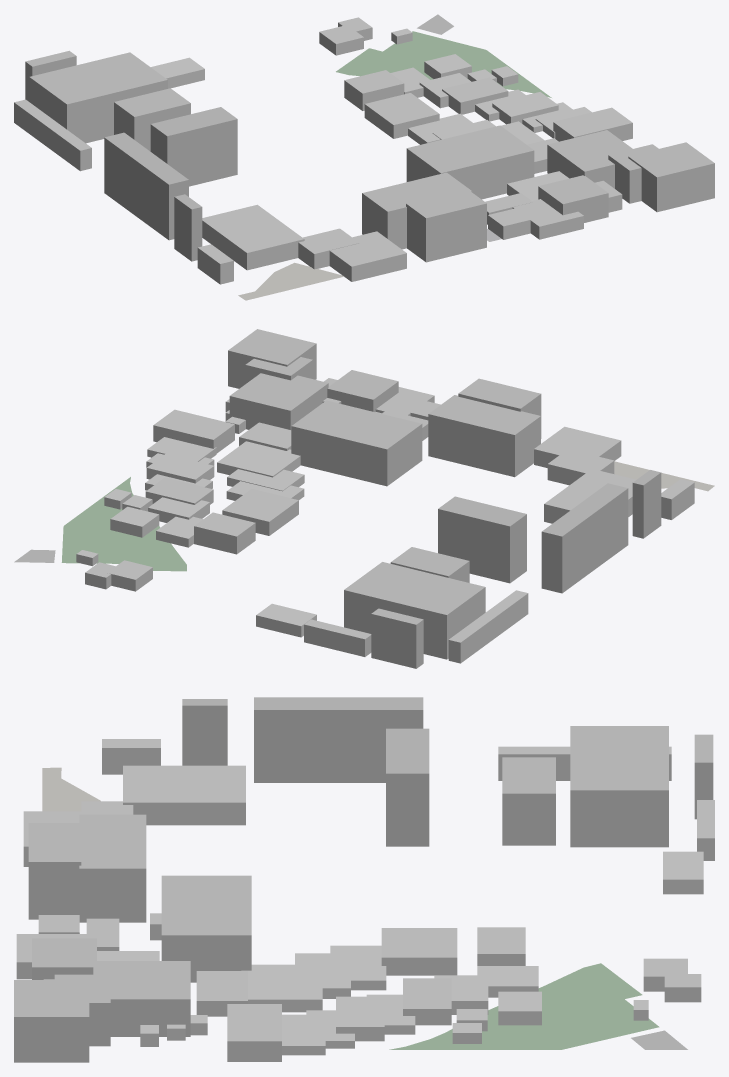
Rendered from 115_98_mid.glb.
3 renders of one model, top to bottom at view 1: azimuth 30°, elevation 25°; view 2: azimuth 150°, elevation 25°; view 3: azimuth 270°, elevation 25°, orthographic. The views are drawn at different scales.
Size of the model in its own units: 520 by 61.66 by 523.
